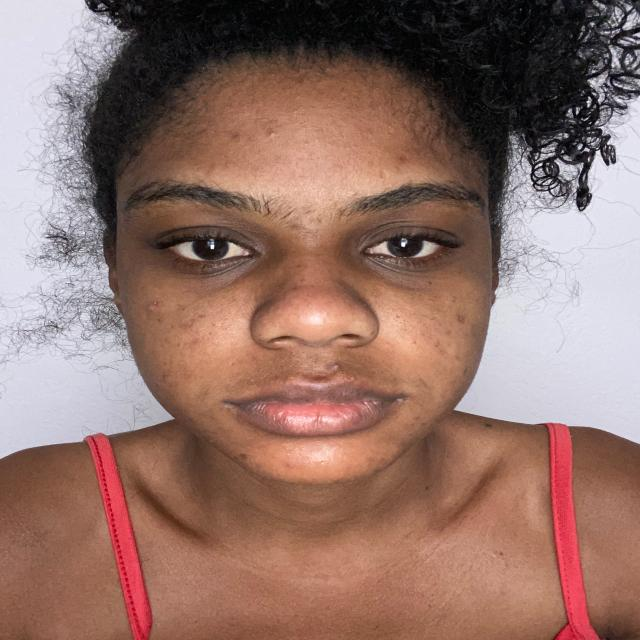Acne: (179, 312, 208, 328), (154, 372, 171, 388), (306, 372, 330, 382), (363, 454, 387, 464), (201, 164, 217, 177), (148, 298, 162, 312), (226, 131, 243, 141), (454, 314, 468, 326), (393, 154, 409, 164), (174, 302, 189, 312), (266, 127, 278, 138), (377, 169, 386, 183), (236, 452, 251, 460), (329, 362, 343, 370), (459, 366, 470, 376), (189, 336, 201, 345), (432, 338, 442, 348), (282, 461, 293, 470), (288, 222, 300, 230), (154, 317, 165, 325), (223, 161, 235, 168), (348, 190, 358, 197), (298, 276, 308, 283), (300, 140, 311, 146), (290, 285, 298, 293), (295, 262, 303, 270), (444, 330, 453, 337), (291, 108, 301, 114), (316, 458, 326, 463), (411, 414, 419, 420), (313, 137, 320, 143), (205, 331, 214, 335), (211, 323, 218, 328)
Englarged-Pores: (382, 305, 422, 342), (201, 316, 232, 351)
Eyebags: (144, 256, 282, 290), (339, 250, 454, 290)
